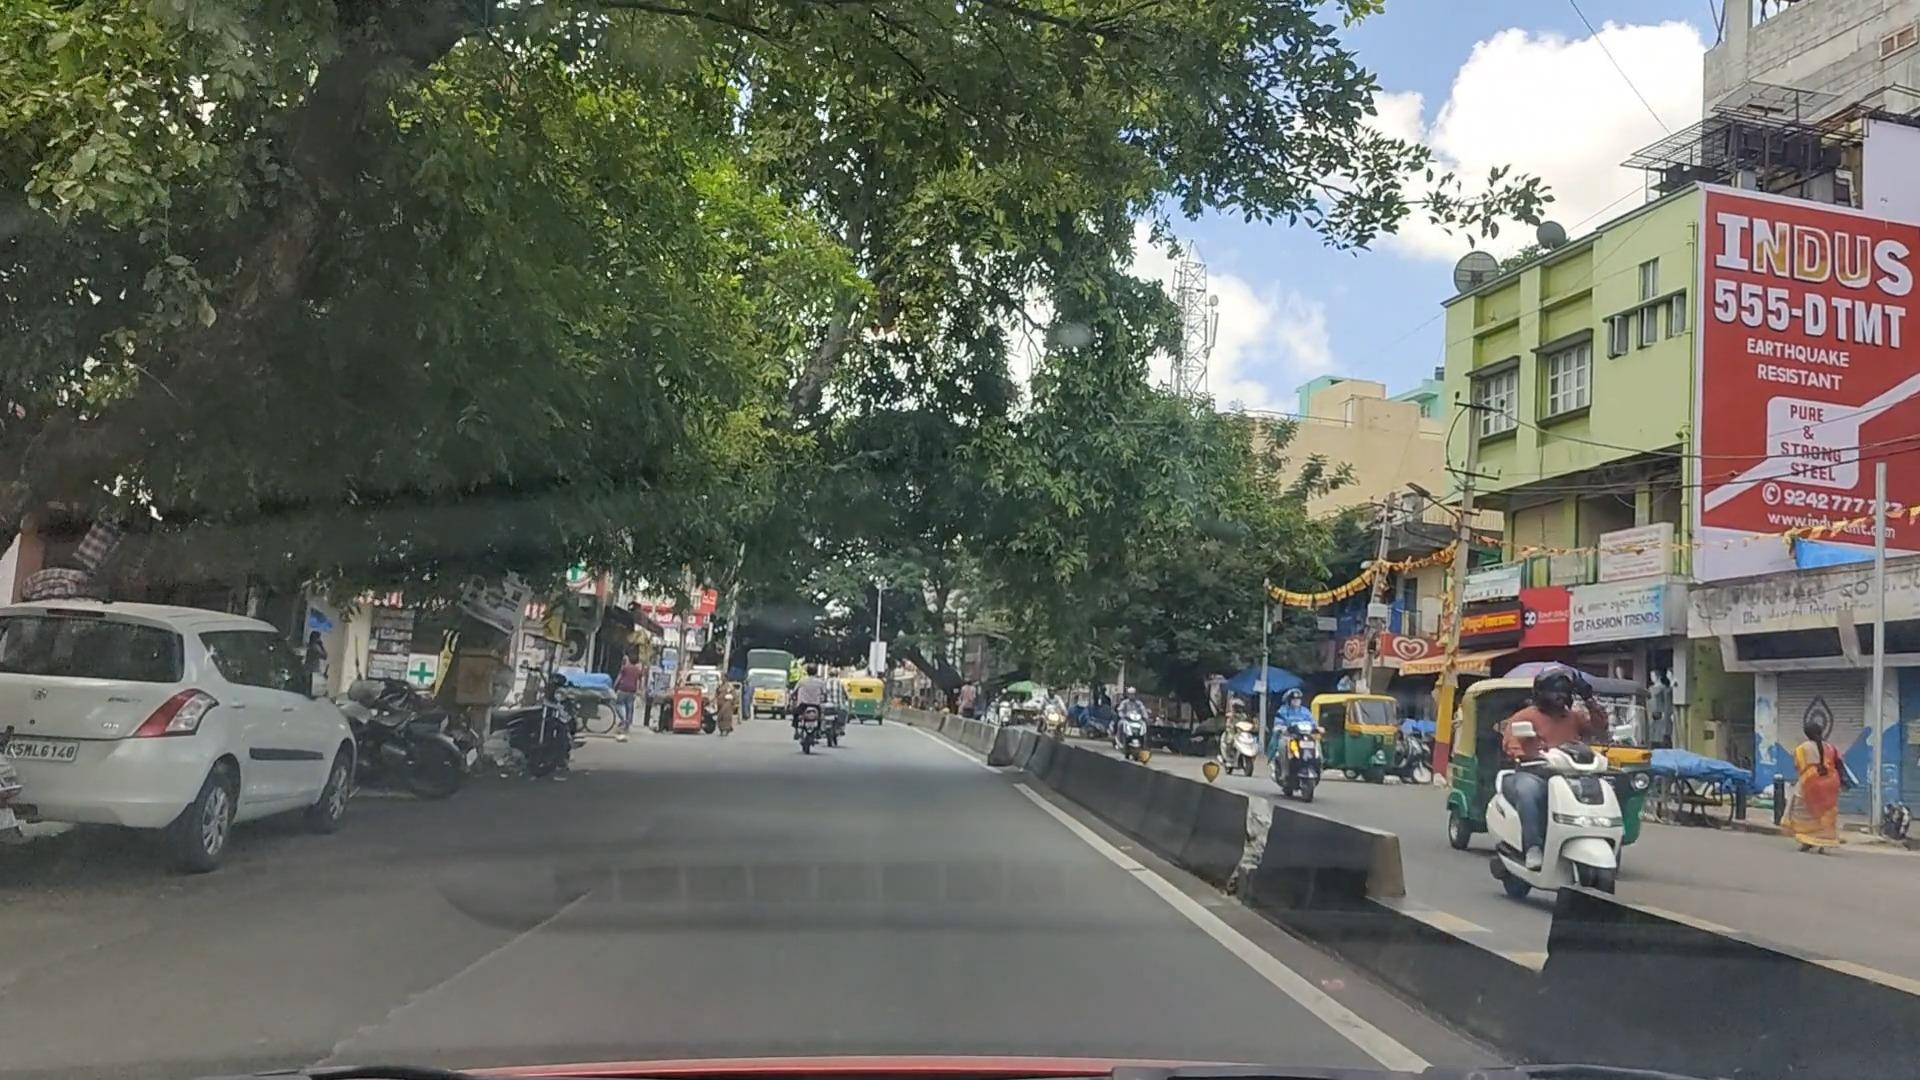LMV: (3, 585, 365, 877)
RoadDamages: (80, 831, 571, 1080)
